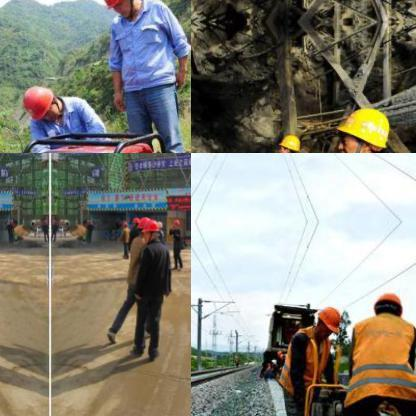Helmet: (335, 104, 395, 152), (16, 82, 60, 121), (370, 287, 402, 321), (312, 301, 344, 334), (96, 0, 143, 17), (276, 131, 303, 152), (141, 219, 157, 241), (136, 216, 148, 236), (170, 217, 180, 229), (130, 215, 138, 227), (120, 219, 128, 229)
